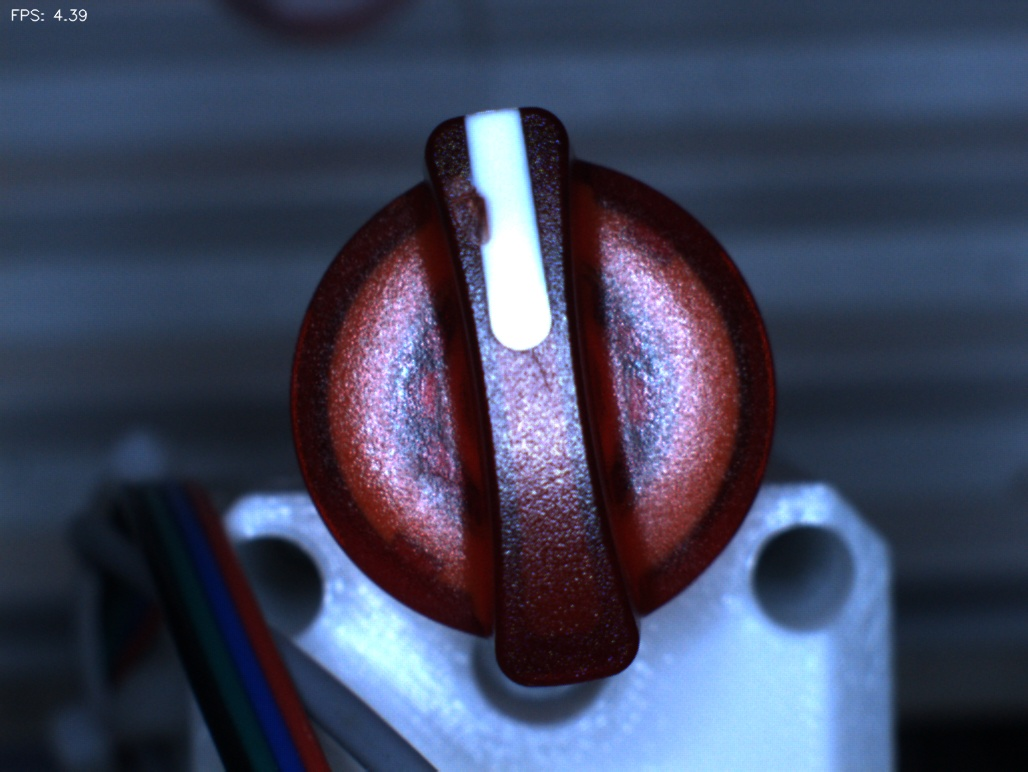Choc: (413, 160, 512, 259)
